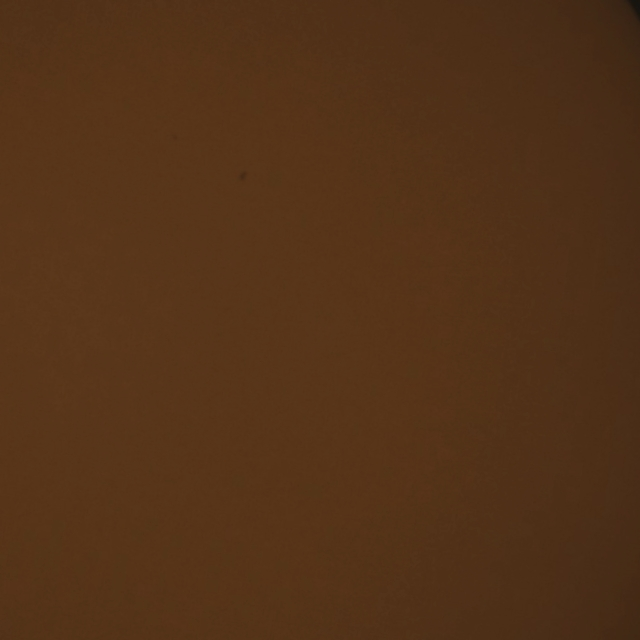sunspot: (237, 170, 249, 183)
